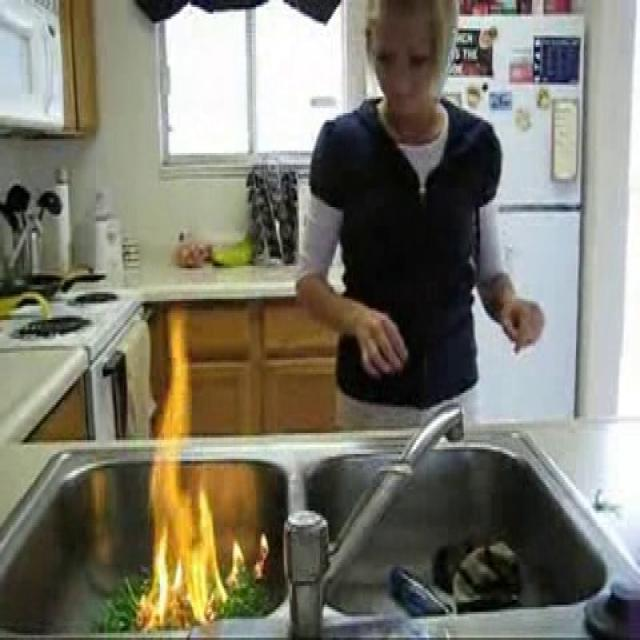fire: (140, 329, 214, 622)
